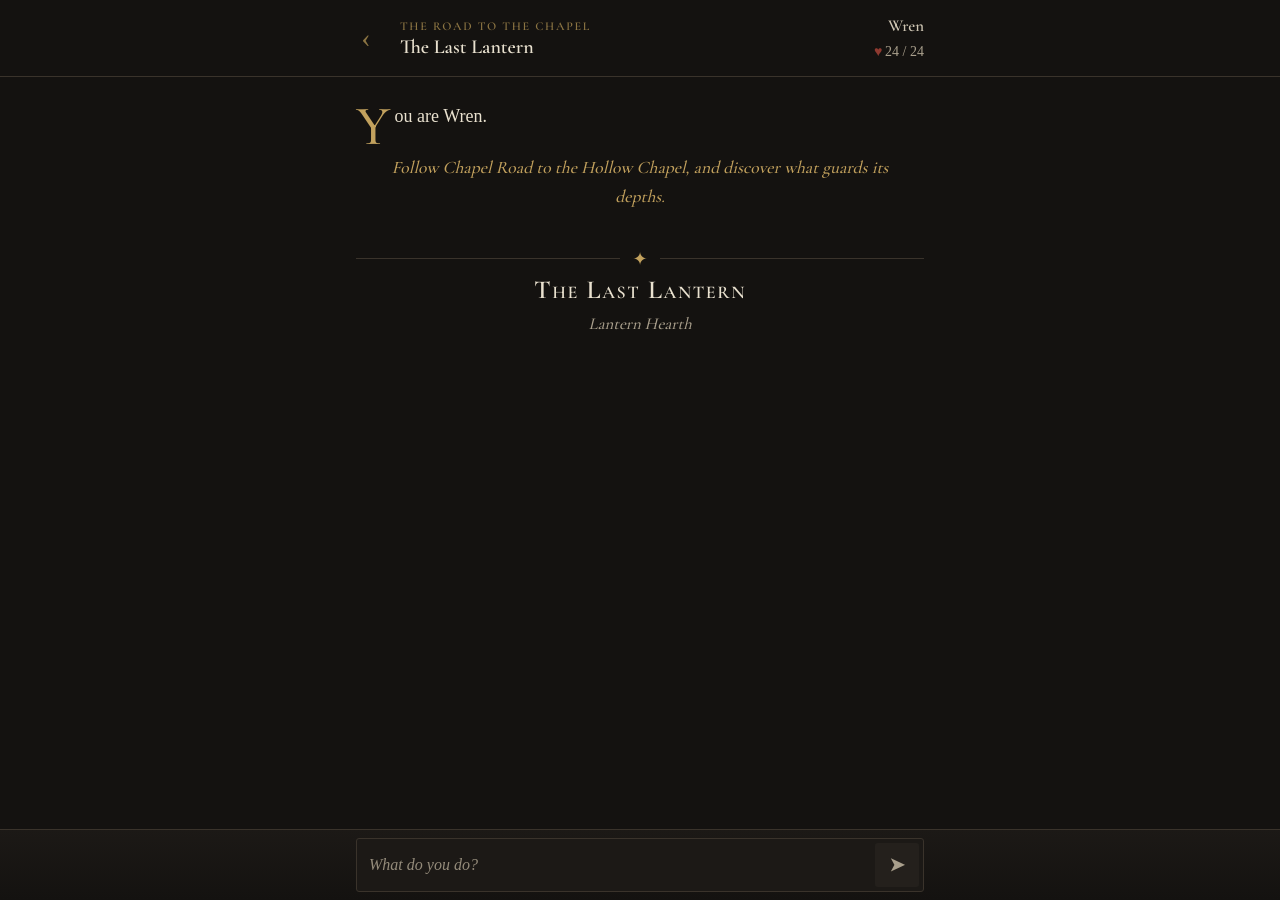
it: enemy attacks and defense › shows the cue at once, offers discreet shortcuts, and a defense alone brings no new attack
Expected: the element named "Introduction" is shown, x1=356 y1=92 x2=487 y2=160
Type "I slash at the Warden." into the text box named "Your action". click: coordinates (618, 865)
box: x1=369 y1=843 x2=867 y2=887
Then press Enter
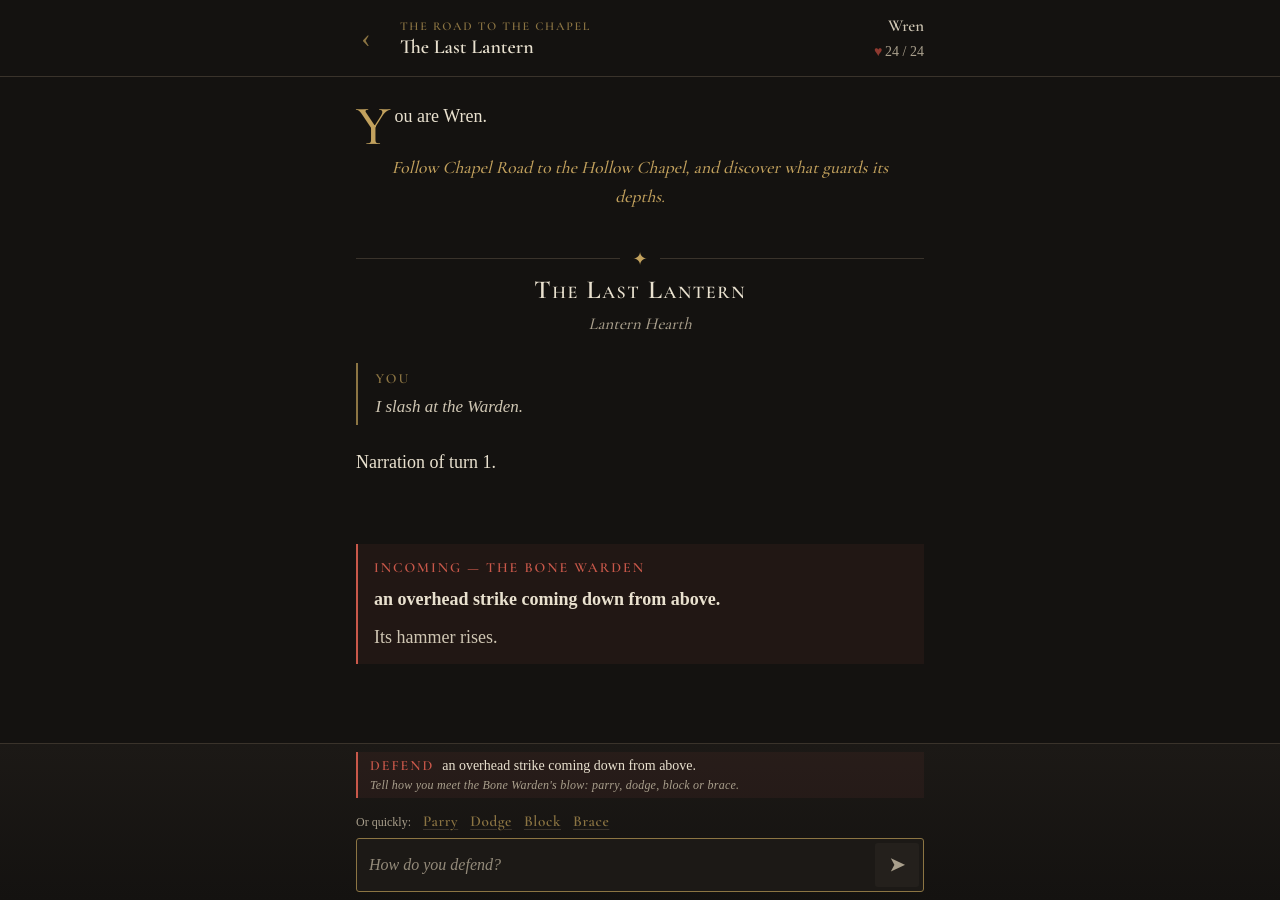
Expected: the message shows "an overhead strike coming down from above.", x1=442 y1=758 x2=696 y2=773
Click the button "Dodge". click: coordinates (491, 822)
box: x1=470 y1=806 x2=512 y2=838
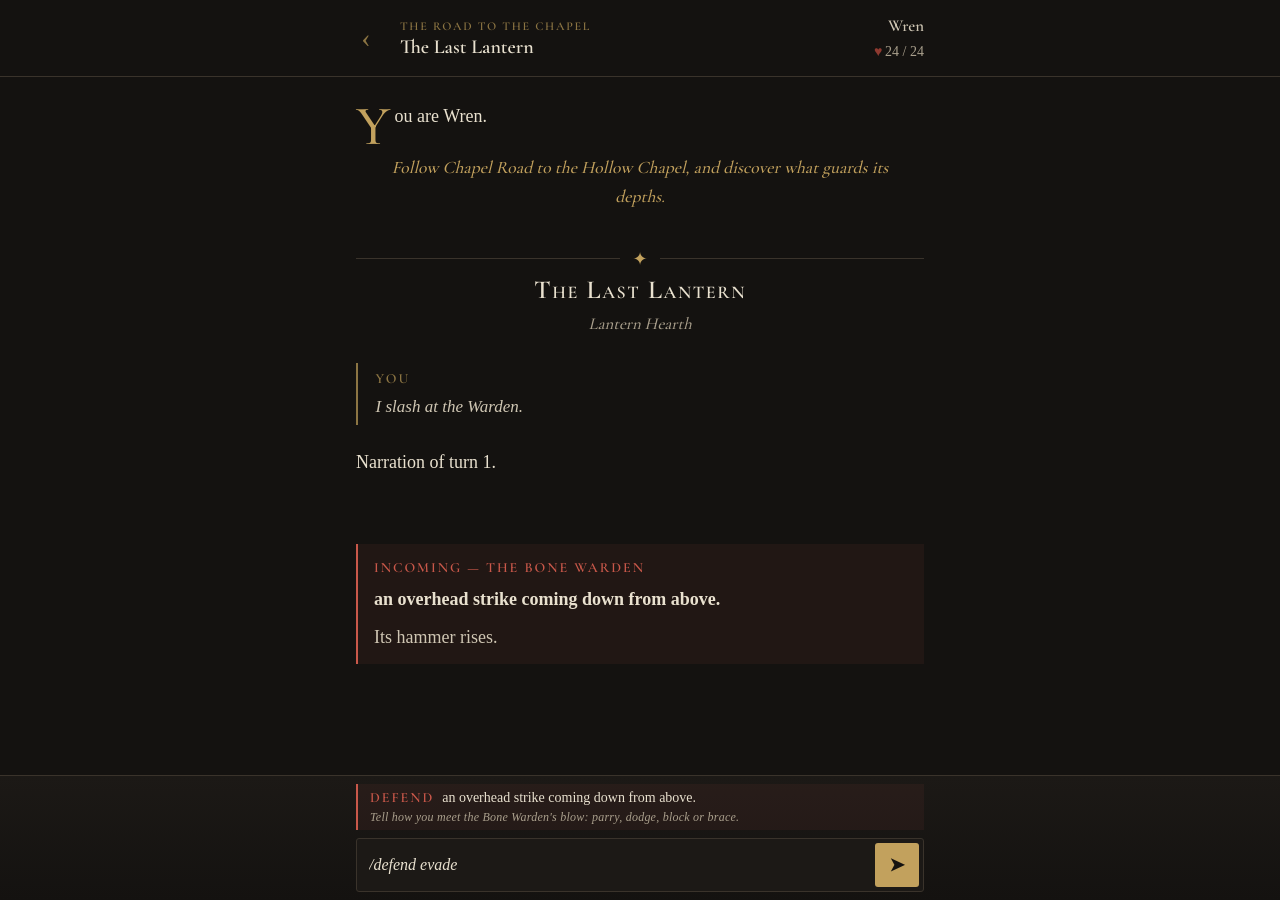
Expected: the text box named "Your action" holds "/defend evade"
Replace the text in the text box named "Your action" with "I raise my sword to parry the blow.". click: coordinates (618, 865)
box: x1=369 y1=843 x2=867 y2=887
Then press Enter
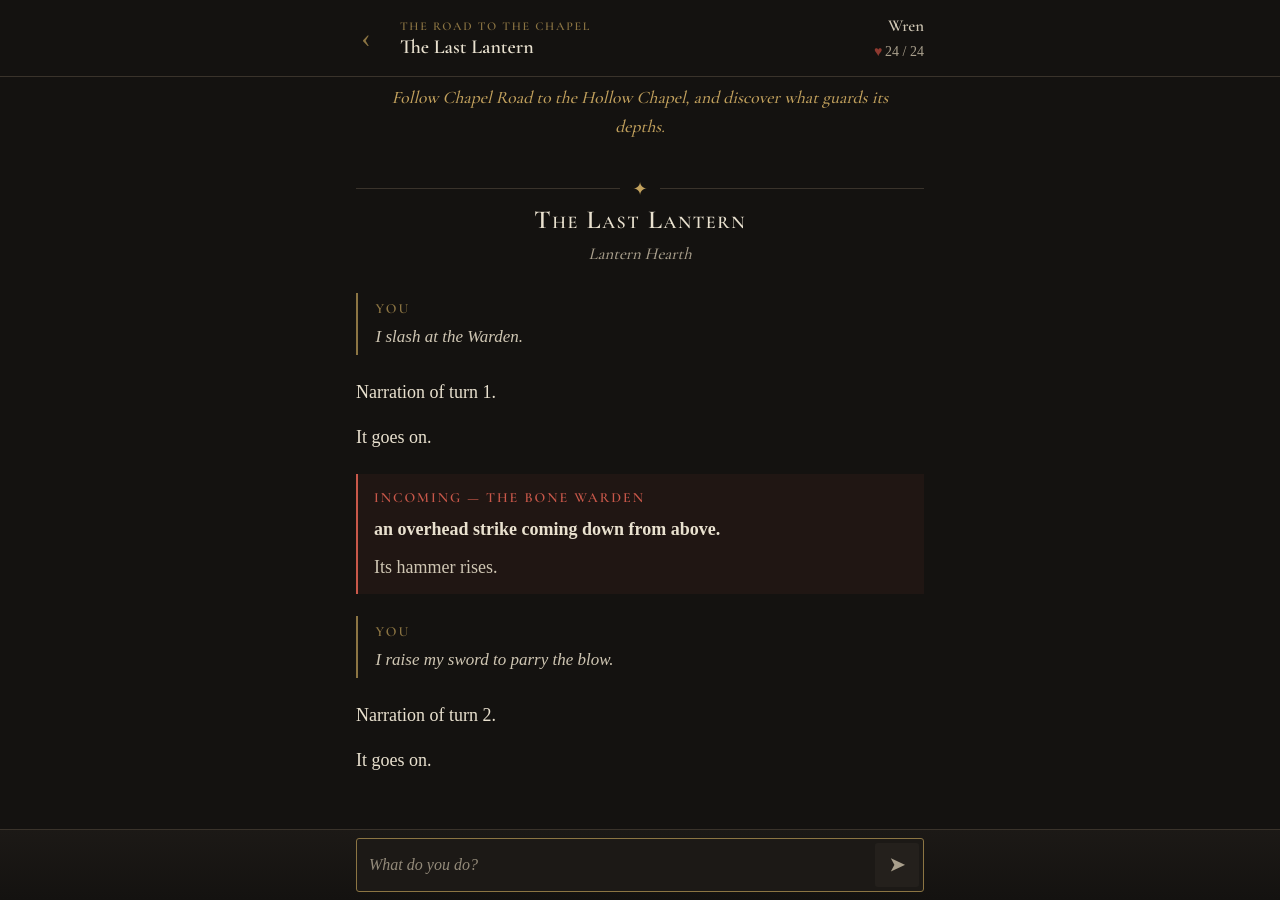
Expected: the text "Narration of turn 2." is shown, x1=356 y1=705 x2=496 y2=725
